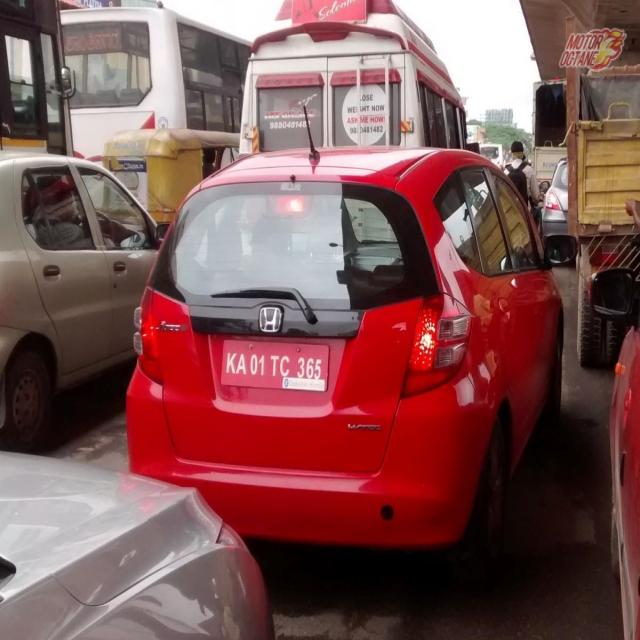plate: (218, 343, 330, 397)
